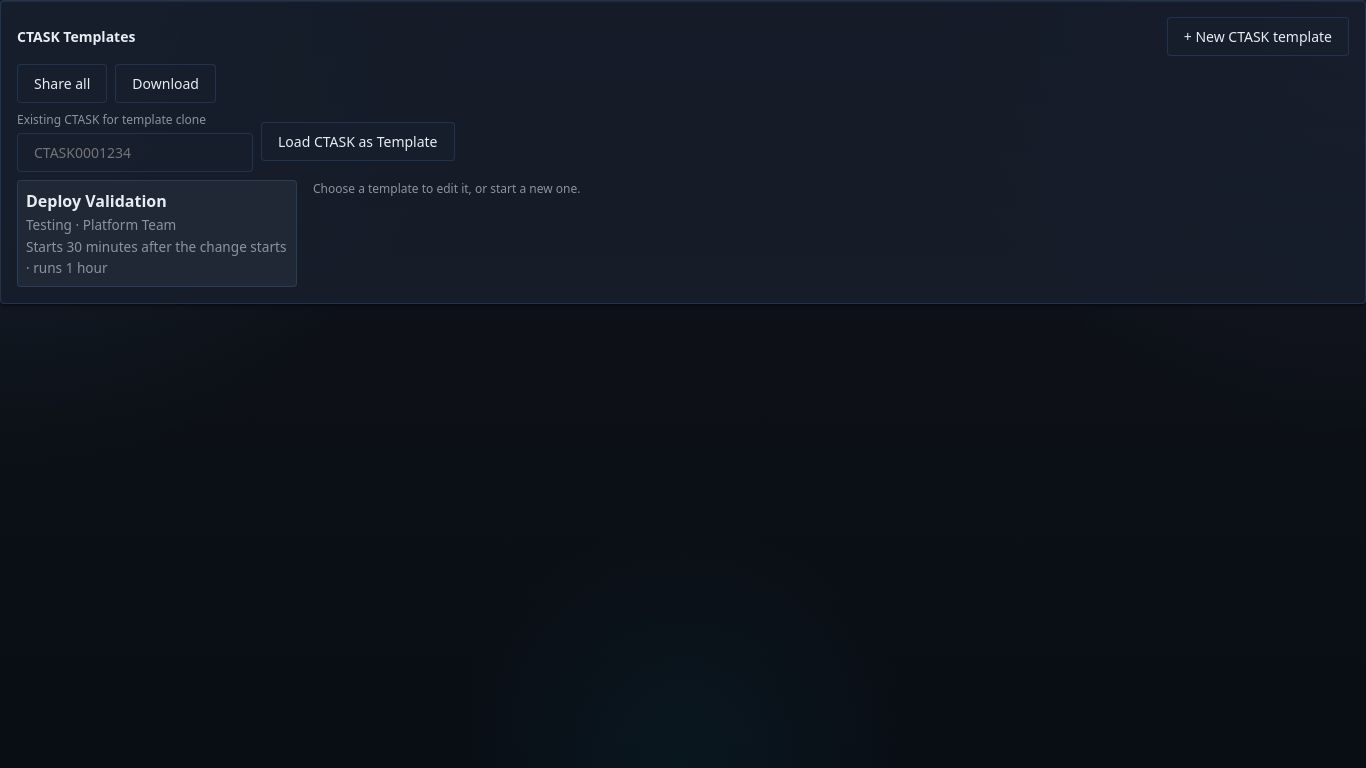
Test: CtaskTemplateManager › edits timing as minutes after the change starts, not as fixed dates
This screenshot has width=1366, height=768.
What coordinates should you click on to do the following:
click the button "Deploy Validation"
I would click on:
 (157, 234)
Its box is [17,180,297,287].
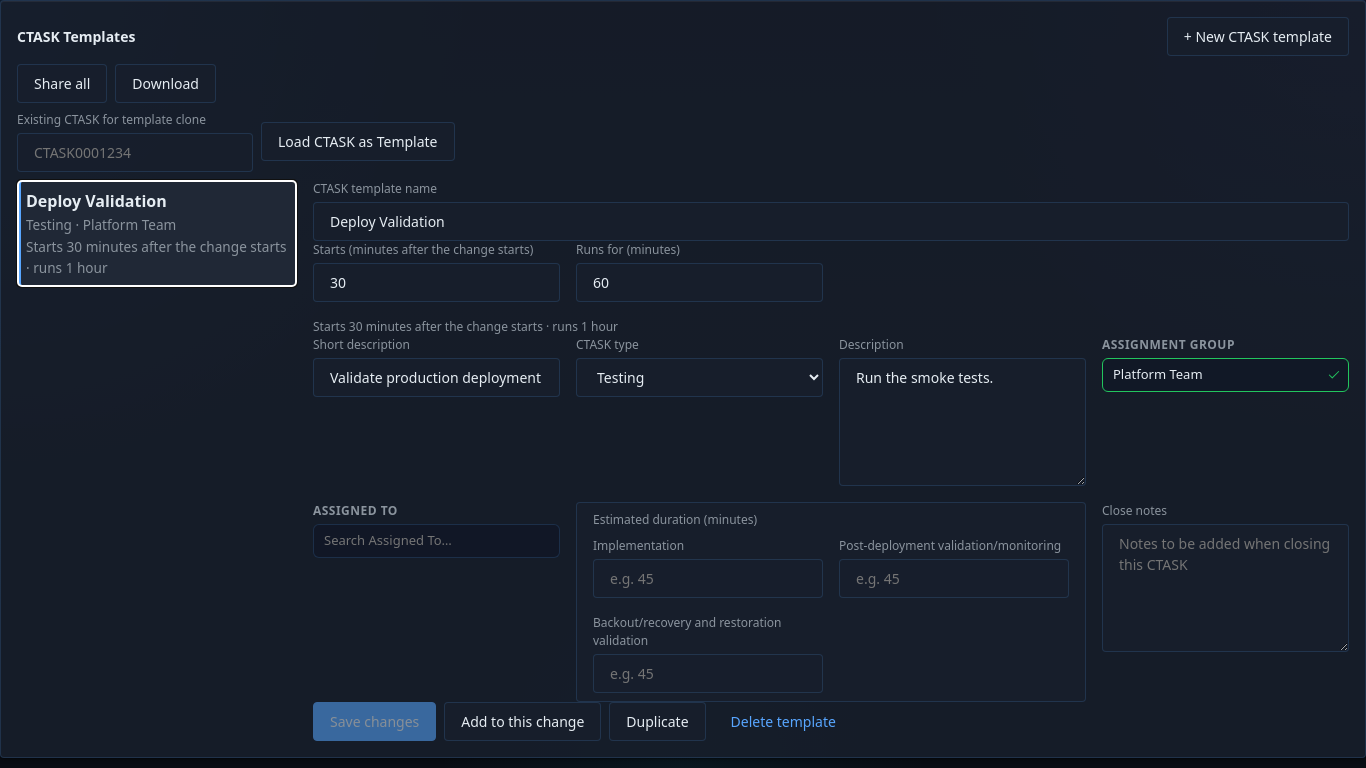
Check: the number field labelled "Starts (minutes after the change starts)" holds "30", box [313,263,560,302]
Check: the number field labelled "Runs for (minutes)" holds "60", box [576,263,823,302]
